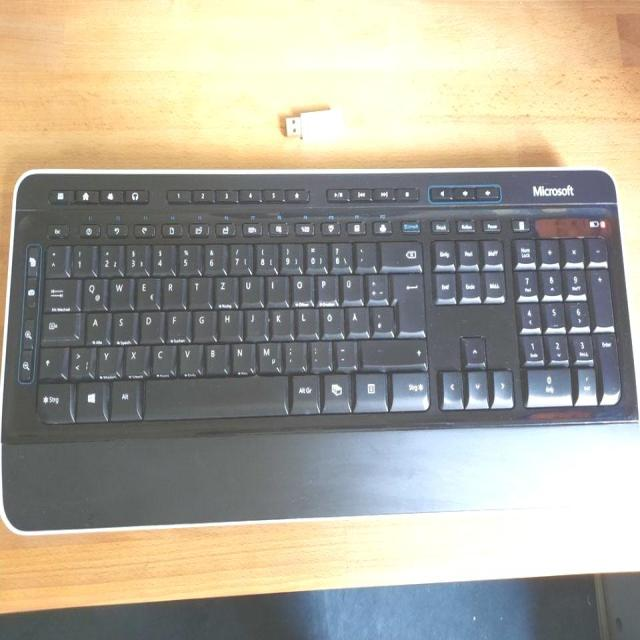0: (303, 238, 324, 268)
1: (70, 241, 91, 273)
2: (97, 241, 118, 272)
3: (123, 240, 145, 272)
4: (150, 240, 170, 270)
5: (175, 239, 196, 271)
6: (201, 239, 222, 269)
7: (227, 238, 249, 270)
8: (253, 238, 274, 270)
9: (277, 239, 299, 269)
a: (84, 309, 105, 340)
accent: (353, 237, 373, 266)
ae: (345, 303, 367, 332)
alt-left: (108, 376, 137, 418)
altgr-right: (289, 371, 317, 411)
b: (203, 340, 225, 372)
c: (149, 341, 173, 373)
caret: (43, 242, 65, 273)
comma: (282, 337, 301, 368)
d: (138, 308, 160, 340)
del: (379, 236, 420, 265)
e: (134, 273, 155, 306)
enter: (389, 270, 422, 332)
f: (165, 307, 186, 337)
g: (191, 306, 212, 337)
h: (217, 306, 238, 336)
hash: (369, 302, 391, 332)
i: (264, 272, 284, 300)
j: (244, 305, 264, 337)
k: (269, 305, 289, 333)
keyboard: (7, 160, 633, 439)
l: (295, 304, 315, 332)
less: (67, 342, 92, 375)
m: (256, 338, 278, 369)
minus: (333, 337, 353, 365)
n: (229, 339, 251, 372)
o: (289, 271, 310, 301)
oe: (320, 304, 341, 332)
p: (315, 271, 334, 300)
plus: (365, 269, 385, 298)
point: (307, 337, 329, 366)
q: (80, 274, 103, 307)
r: (159, 273, 181, 305)
s: (111, 309, 133, 340)
shift-left: (37, 343, 63, 376)
shift-lock: (39, 309, 80, 340)
shift-right: (359, 335, 423, 364)
space: (142, 372, 285, 418)
ss: (328, 238, 349, 267)
strg-left: (33, 379, 70, 421)
strg-right: (389, 368, 429, 409)
t: (186, 273, 207, 302)
tab: (42, 275, 75, 306)
u: (238, 272, 259, 301)
ue: (339, 270, 359, 300)
v: (177, 340, 199, 371)
w: (107, 273, 129, 307)
x: (123, 342, 145, 372)
y: (96, 343, 118, 374)
z: (212, 273, 233, 302)
